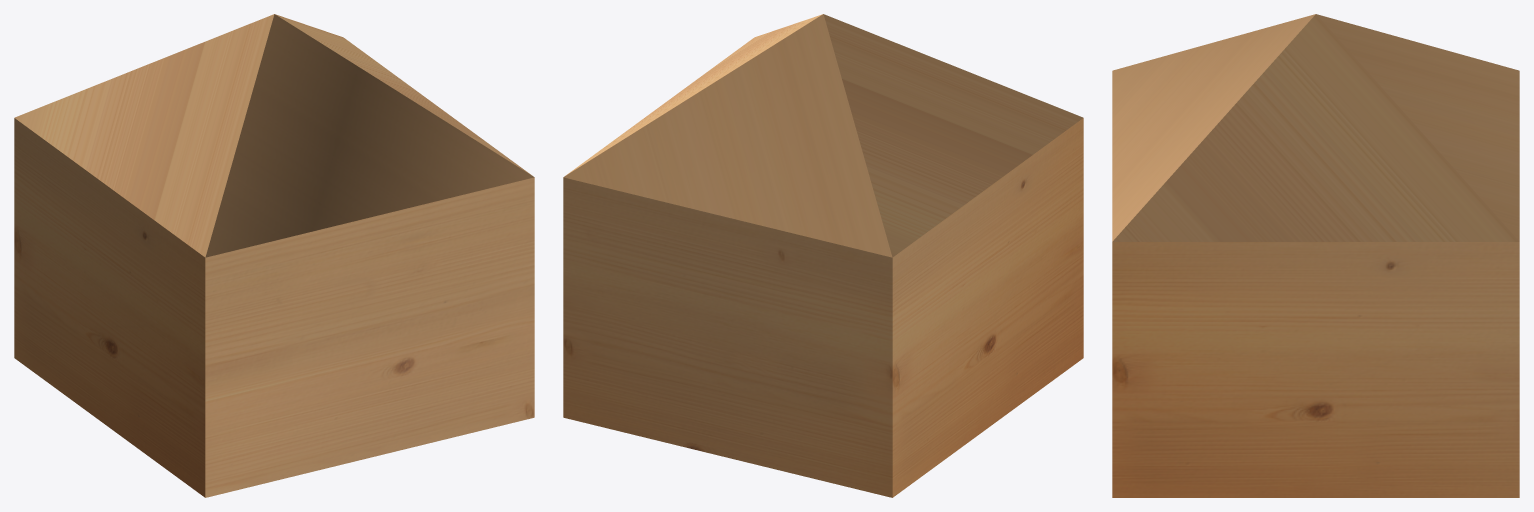
Rendered from House.obj.
3 renders of one model, left to right at view 1: azimuth 30°, elevation 25°; view 2: azimuth 150°, elevation 25°; view 3: azimuth 270°, elevation 25°, orthographic. The views are drawn at different scales.
Visible parts, largest first — view 1: polySurface1; view 2: polySurface1; view 3: polySurface1.
Boxes of the visible parts, x1=… form: polySurface1: x1=14, y1=14, x2=534, y2=497; polySurface1: x1=563, y1=14, x2=1083, y2=497; polySurface1: x1=1112, y1=14, x2=1519, y2=497.
Size of the model in its own units: 10.93 by 11.86 by 10.99.
Materials: 1 (1 with a texture image).
